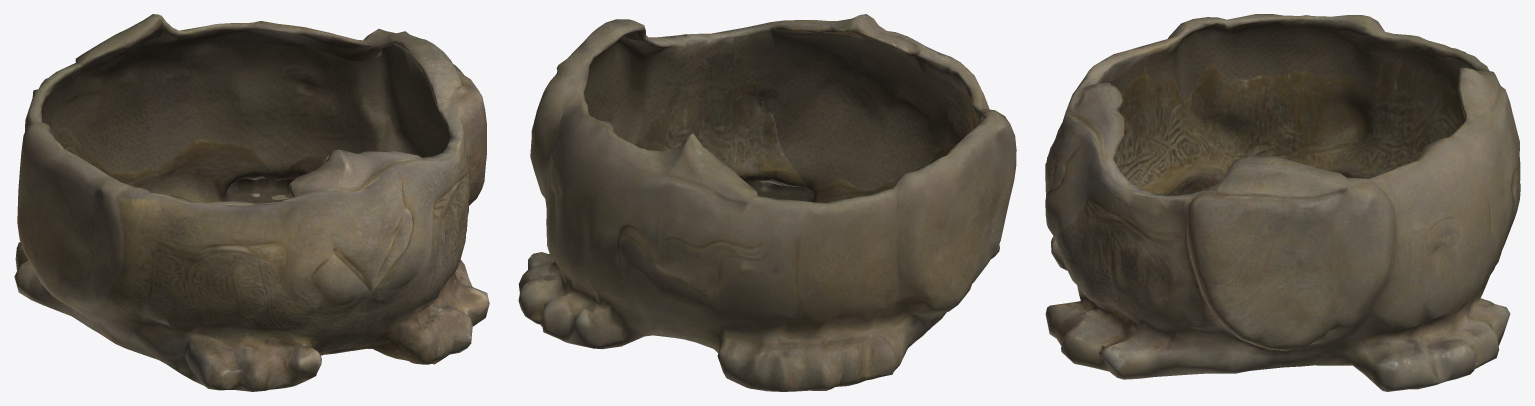
File: ave_fantastica.glb
The picture shows the model from 3 angles, left to right: view 1: azimuth 30°, elevation 25°; view 2: azimuth 150°, elevation 25°; view 3: azimuth 270°, elevation 25°; orthographic projection. The views are drawn at different scales.
Visible parts, largest first — view 1: Mesh1.0; view 2: Mesh1.0; view 3: Mesh1.0.
Part boxes in pixels (bbox=[...]): Mesh1.0: bbox=[14, 14, 489, 391]; Mesh1.0: bbox=[518, 14, 1016, 391]; Mesh1.0: bbox=[1045, 14, 1520, 391].
Bounding box in the file's own units: 0.8937 × 0.5 × 0.8918.
Materials: 1 (1 with a texture image).
